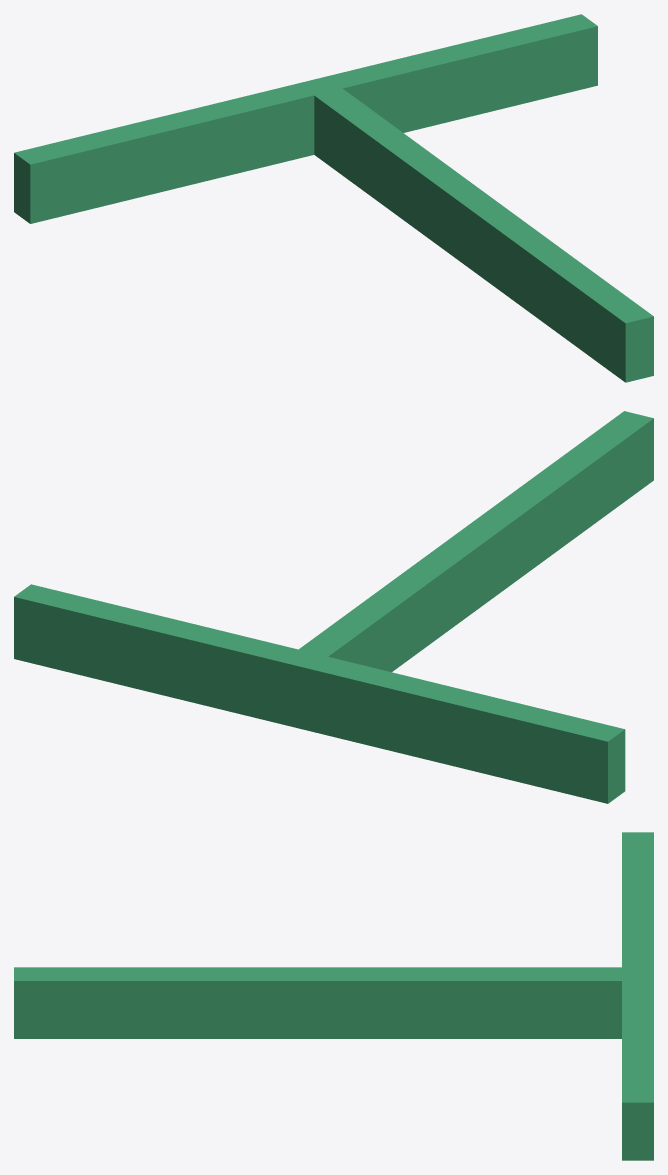
File: extruded-drawing.glb
The picture shows the model from 3 angles, top to bottom: view 1: azimuth 30°, elevation 25°; view 2: azimuth 150°, elevation 25°; view 3: azimuth 270°, elevation 25°; orthographic projection. The views are drawn at different scales.
Parts seen in each view (by area): view 1: letter-t; view 2: letter-t; view 3: letter-t.
Boxes of the visible parts, left/top/right/bottom form: letter-t: left=14, top=14, right=653, bottom=382; letter-t: left=14, top=411, right=653, bottom=803; letter-t: left=14, top=832, right=653, bottom=1160.
Size of the model in its own units: 0.04 by 0.004 by 0.04.
